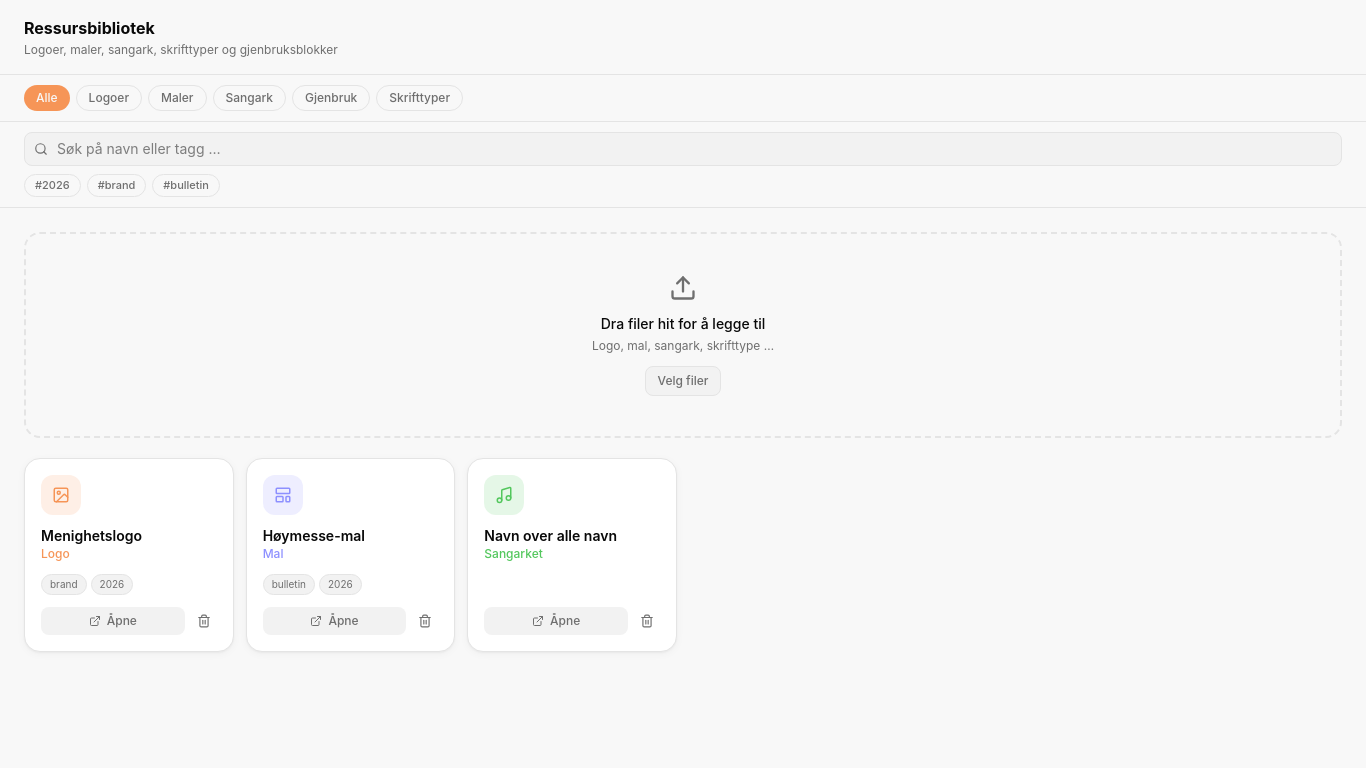
Test: AssetsPanel › shows a no-results state with a reset when a search matches nothing
Expected: the text "Menighetslogo" is shown, [41, 526, 142, 544]
Type "zzz-no-match" into the search field named "Søk i ressurser" at (683, 149), box [24, 132, 1342, 166]
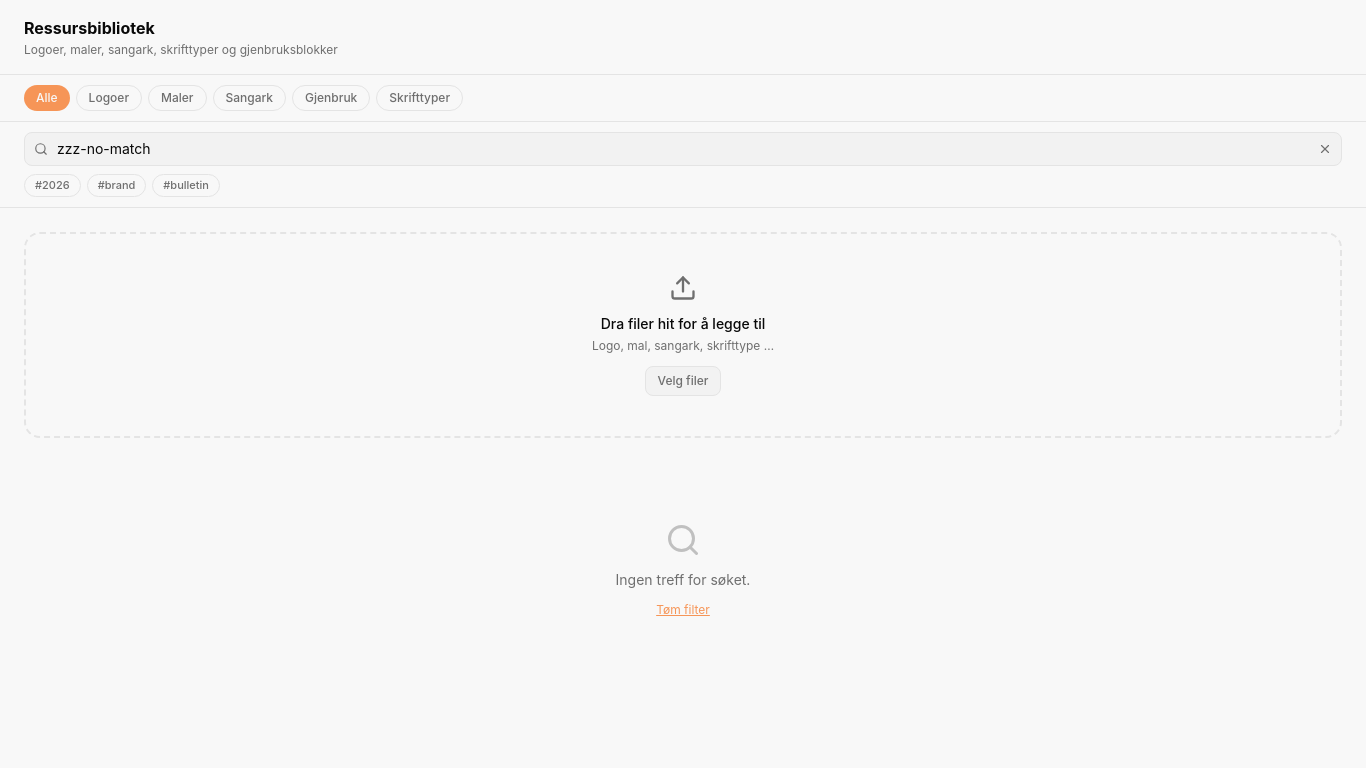
Result: the text "Ingen treff for søket." is shown at [616, 570, 750, 590]
Click the button "Tøm filter" at (683, 610), box [656, 602, 710, 618]
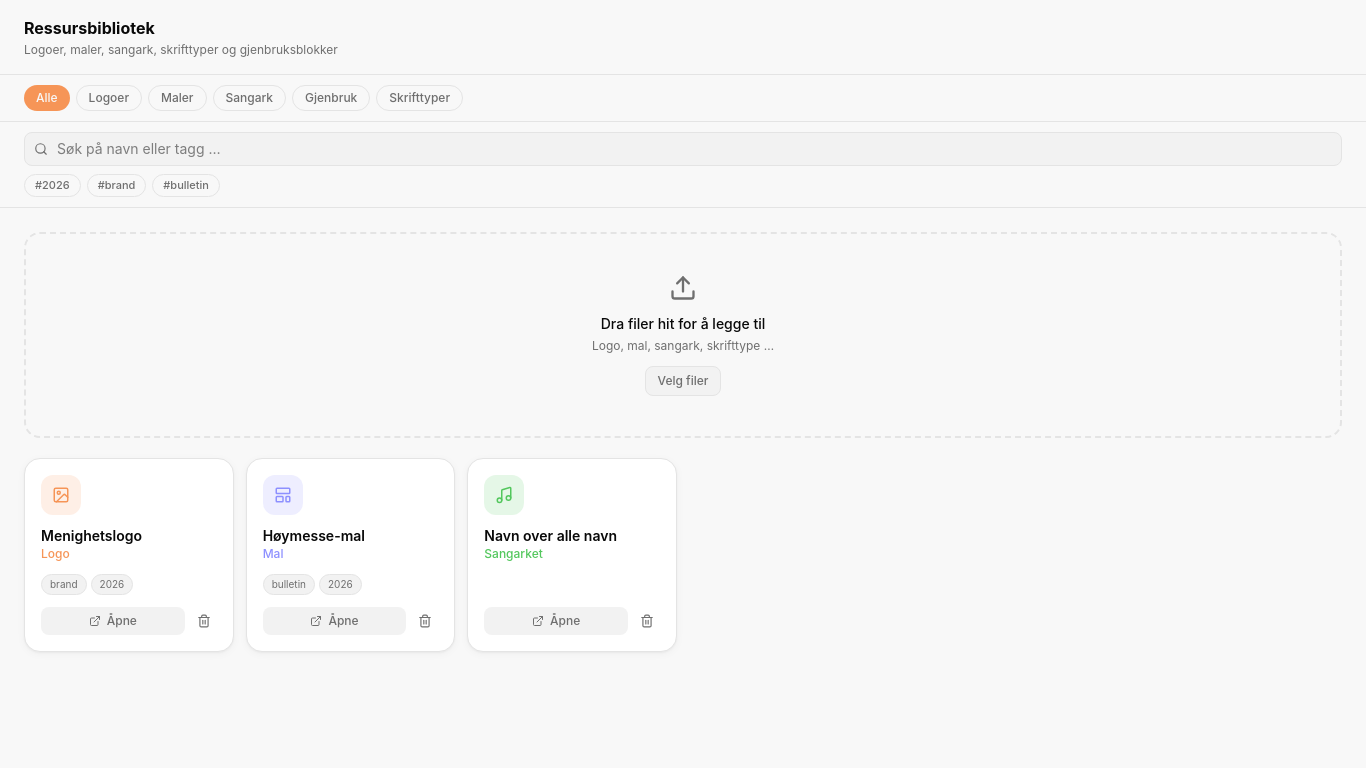
Result: the text "Menighetslogo" is shown at [41, 526, 142, 544]
